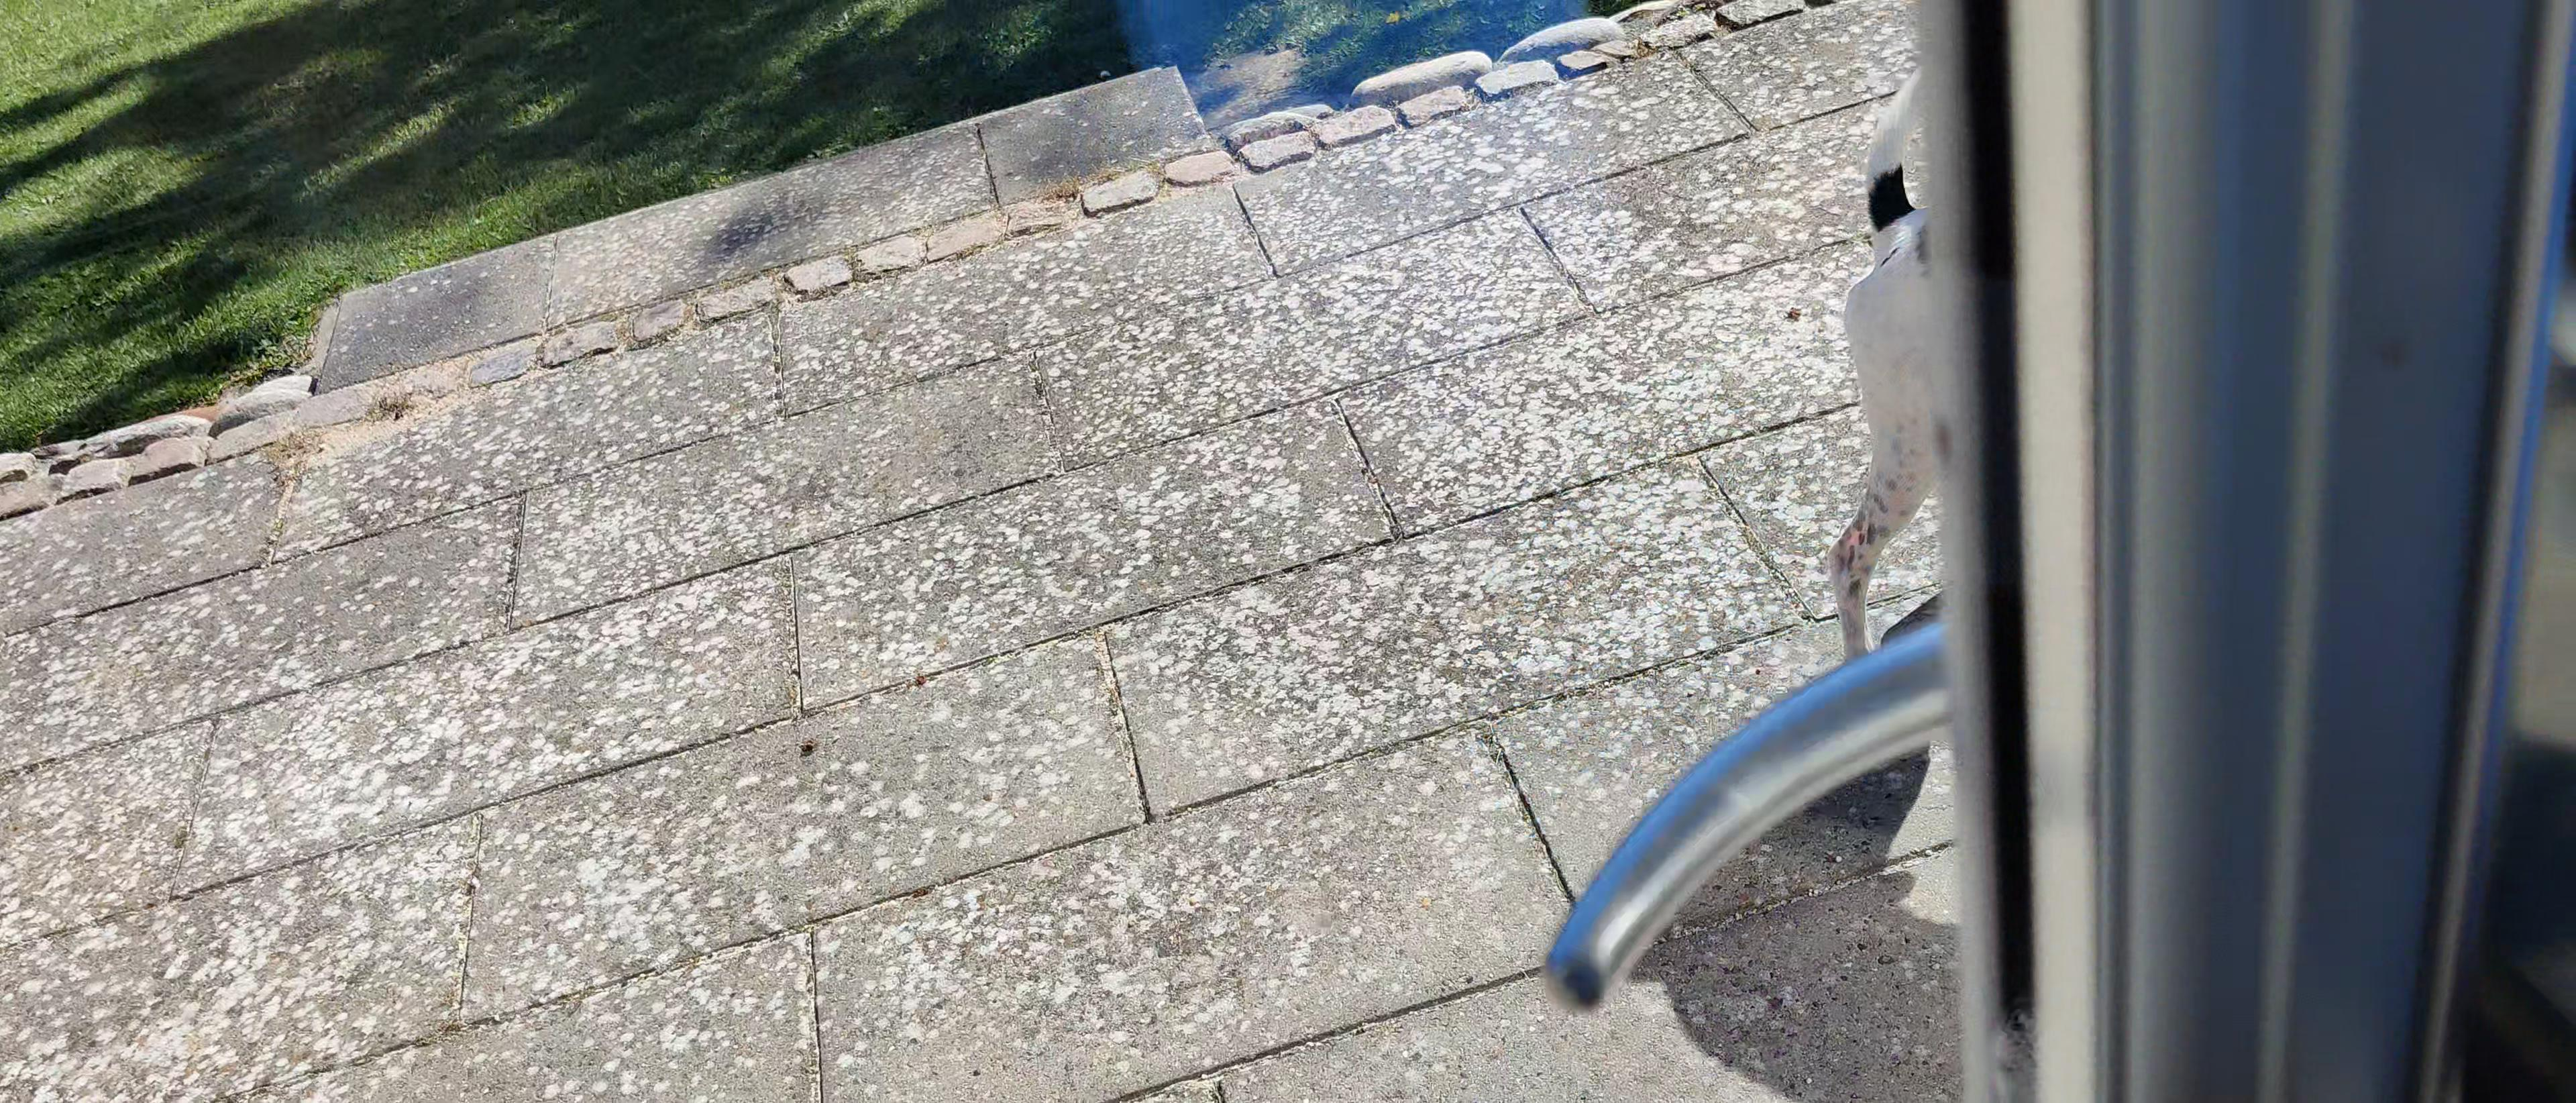Dog: (1791, 28, 2012, 687)
